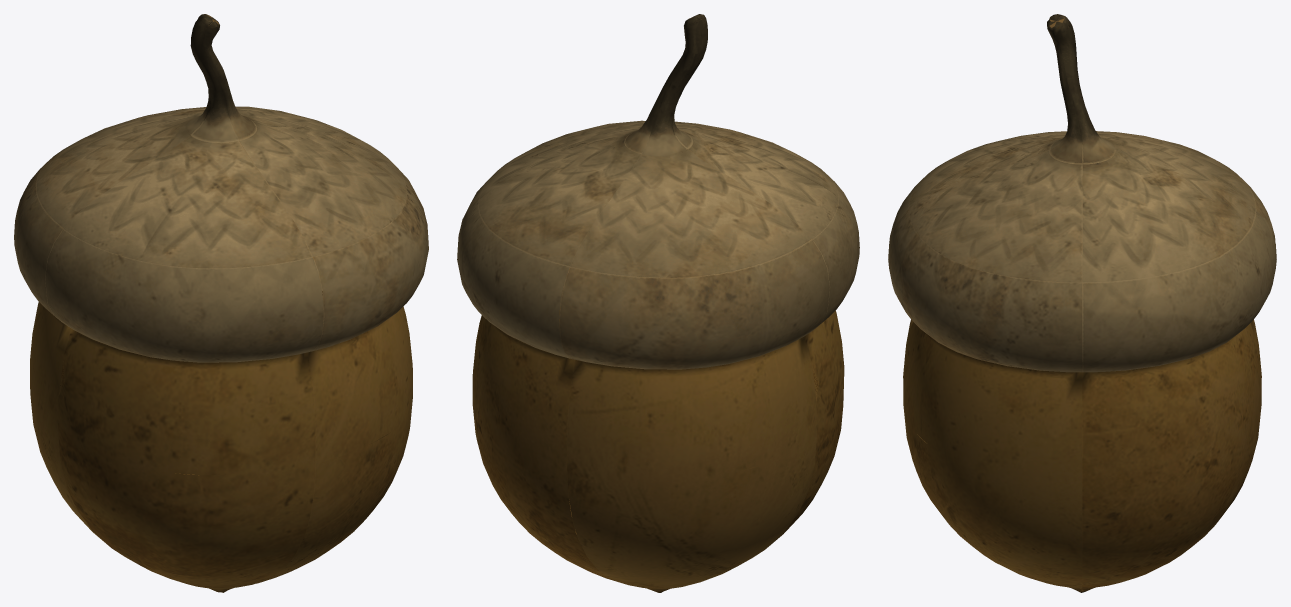
Rendered from bellota_mala.obj.
The picture shows the model from 3 angles, left to right: view 1: azimuth 30°, elevation 25°; view 2: azimuth 150°, elevation 25°; view 3: azimuth 270°, elevation 25°; orthographic projection. The views are drawn at different scales.
Visible parts, largest first — view 1: bellota_mala; view 2: bellota_mala; view 3: bellota_mala.
Part boxes in pixels (x1,y1,x2,y2): bellota_mala: (14,14,428,592); bellota_mala: (457,14,859,592); bellota_mala: (888,14,1276,592).
Size of the model in its own units: 1.67 by 2.67 by 1.67.
Materials: 1 (1 with a texture image).
